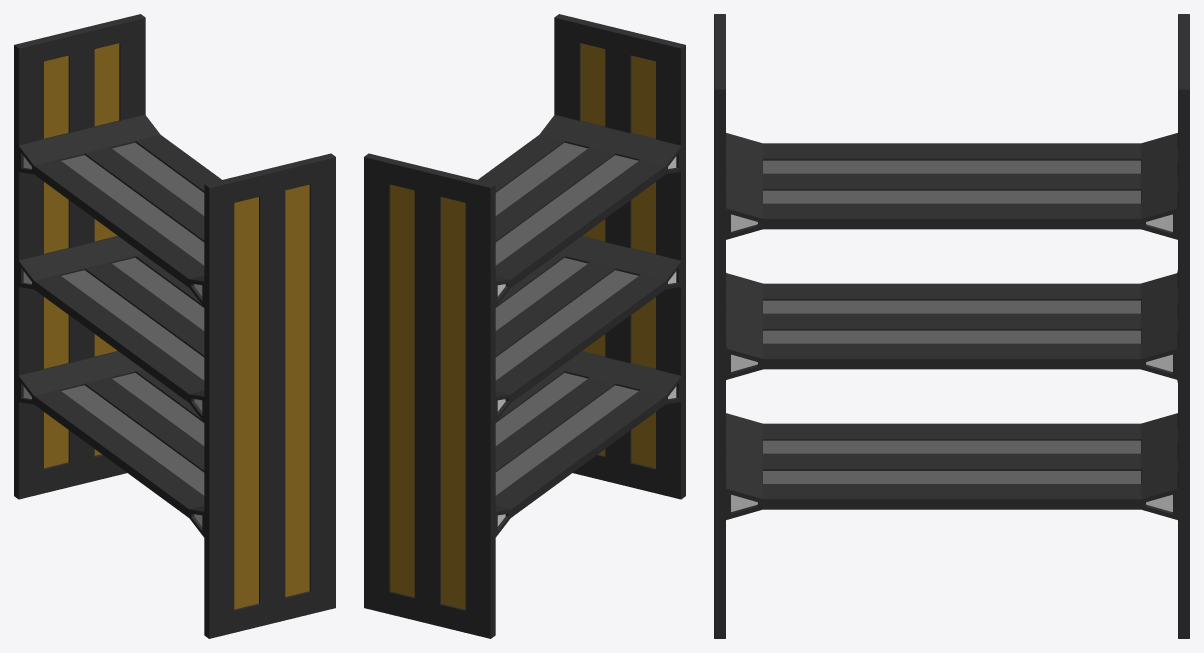
The model's file is Storage_Shelf.fbx.
3 renders of one model, left to right at view 1: azimuth 30°, elevation 25°; view 2: azimuth 150°, elevation 25°; view 3: azimuth 270°, elevation 25°, orthographic. The views are drawn at different scales.
Parts seen in each view (by area): view 1: MainStruct, Insect, Shelf_Insect; view 2: MainStruct, Insect, Shelf_Insect; view 3: MainStruct, Shelf_Insect, Led.
Part boxes in pixels (box(x1,y1,x2,y2)): MainStruct: box(14, 14, 335, 638); Insect: box(44, 43, 309, 609); Shelf_Insect: box(61, 142, 204, 495); MainStruct: box(364, 14, 685, 638); Insect: box(390, 43, 655, 609); Shelf_Insect: box(495, 142, 638, 495); MainStruct: box(714, 14, 1189, 638); Shelf_Insect: box(763, 160, 1140, 483); Led: box(731, 214, 1172, 511).
Size of the model in its own units: 150 by 510 by 400.
